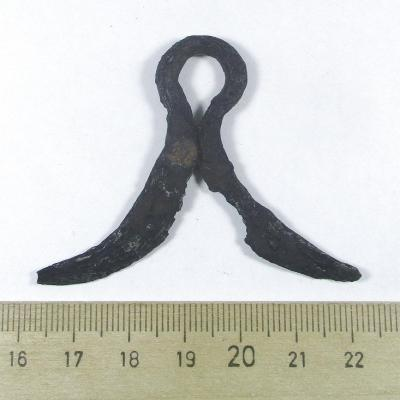archeology: (36, 36, 362, 288)
